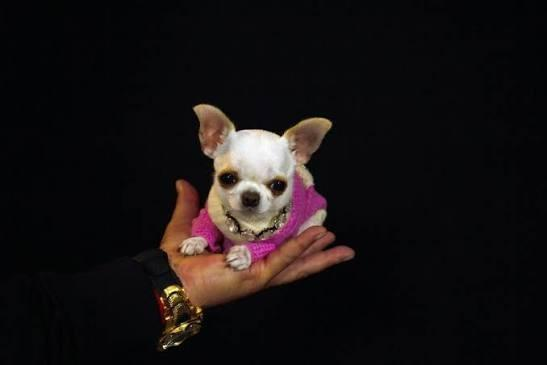adult_dog: (179, 102, 335, 271)
